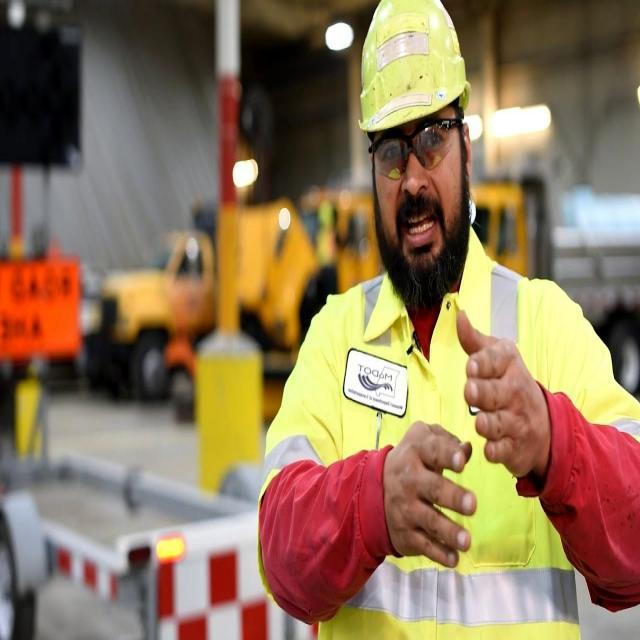reflective_jacket: (269, 261, 588, 636)
safety_helmet: (354, 0, 477, 135)
